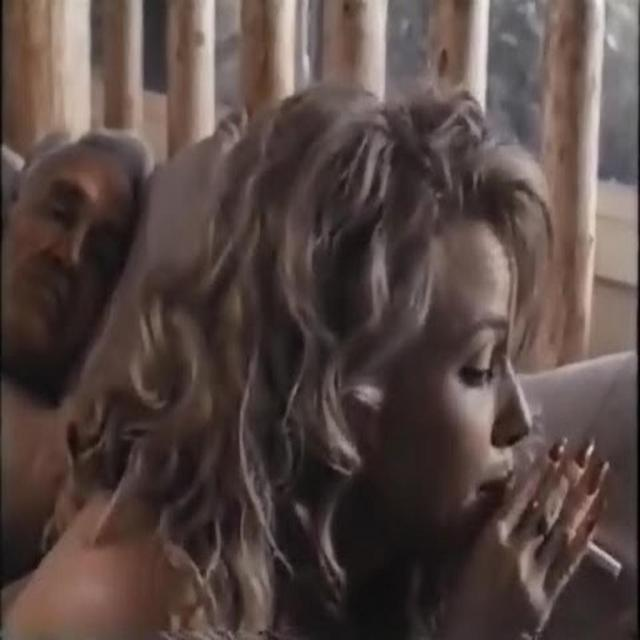smoking: (258, 98, 632, 609)
